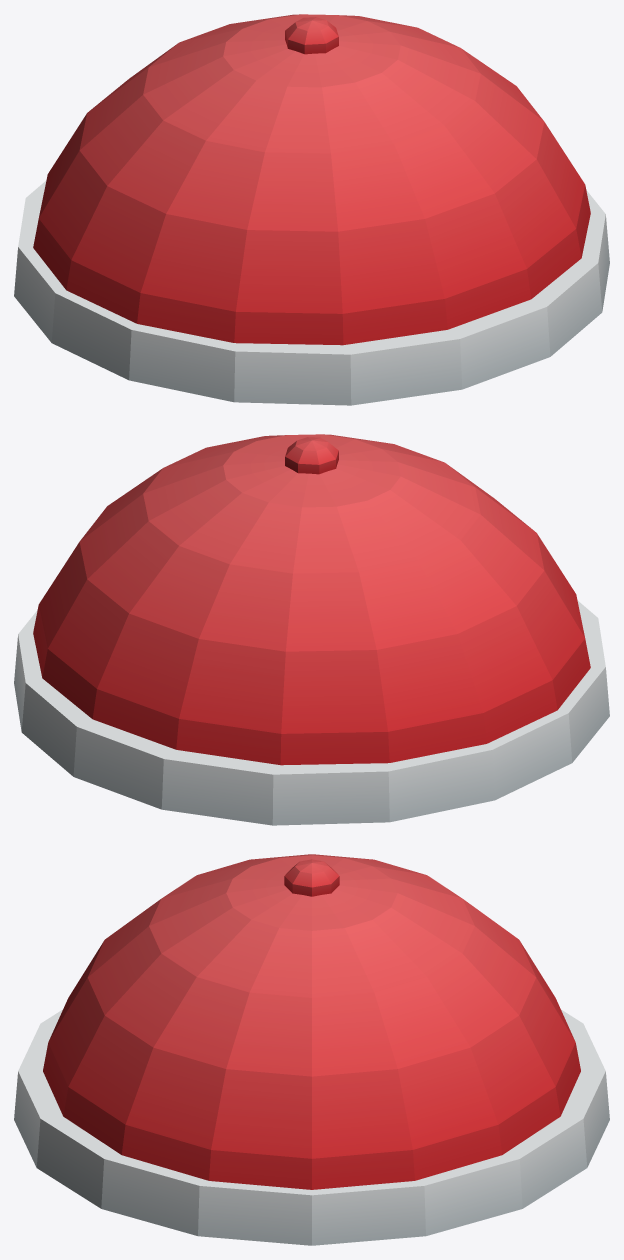
The model's file is cloth_cap.glb.
3 renders of one model, top to bottom at view 1: azimuth 30°, elevation 25°; view 2: azimuth 150°, elevation 25°; view 3: azimuth 270°, elevation 25°, orthographic.
Parts seen in each view (by area): view 1: cloth_cap; view 2: cloth_cap; view 3: cloth_cap.
Part boxes in pixels (x1,y1,x2,y2): cloth_cap: [14, 14, 609, 405]; cloth_cap: [14, 434, 609, 825]; cloth_cap: [14, 854, 609, 1245].
Bounding box in the file's own units: 1.44 × 0.685 × 1.44.
Materials: 1 (1 with a texture image).
